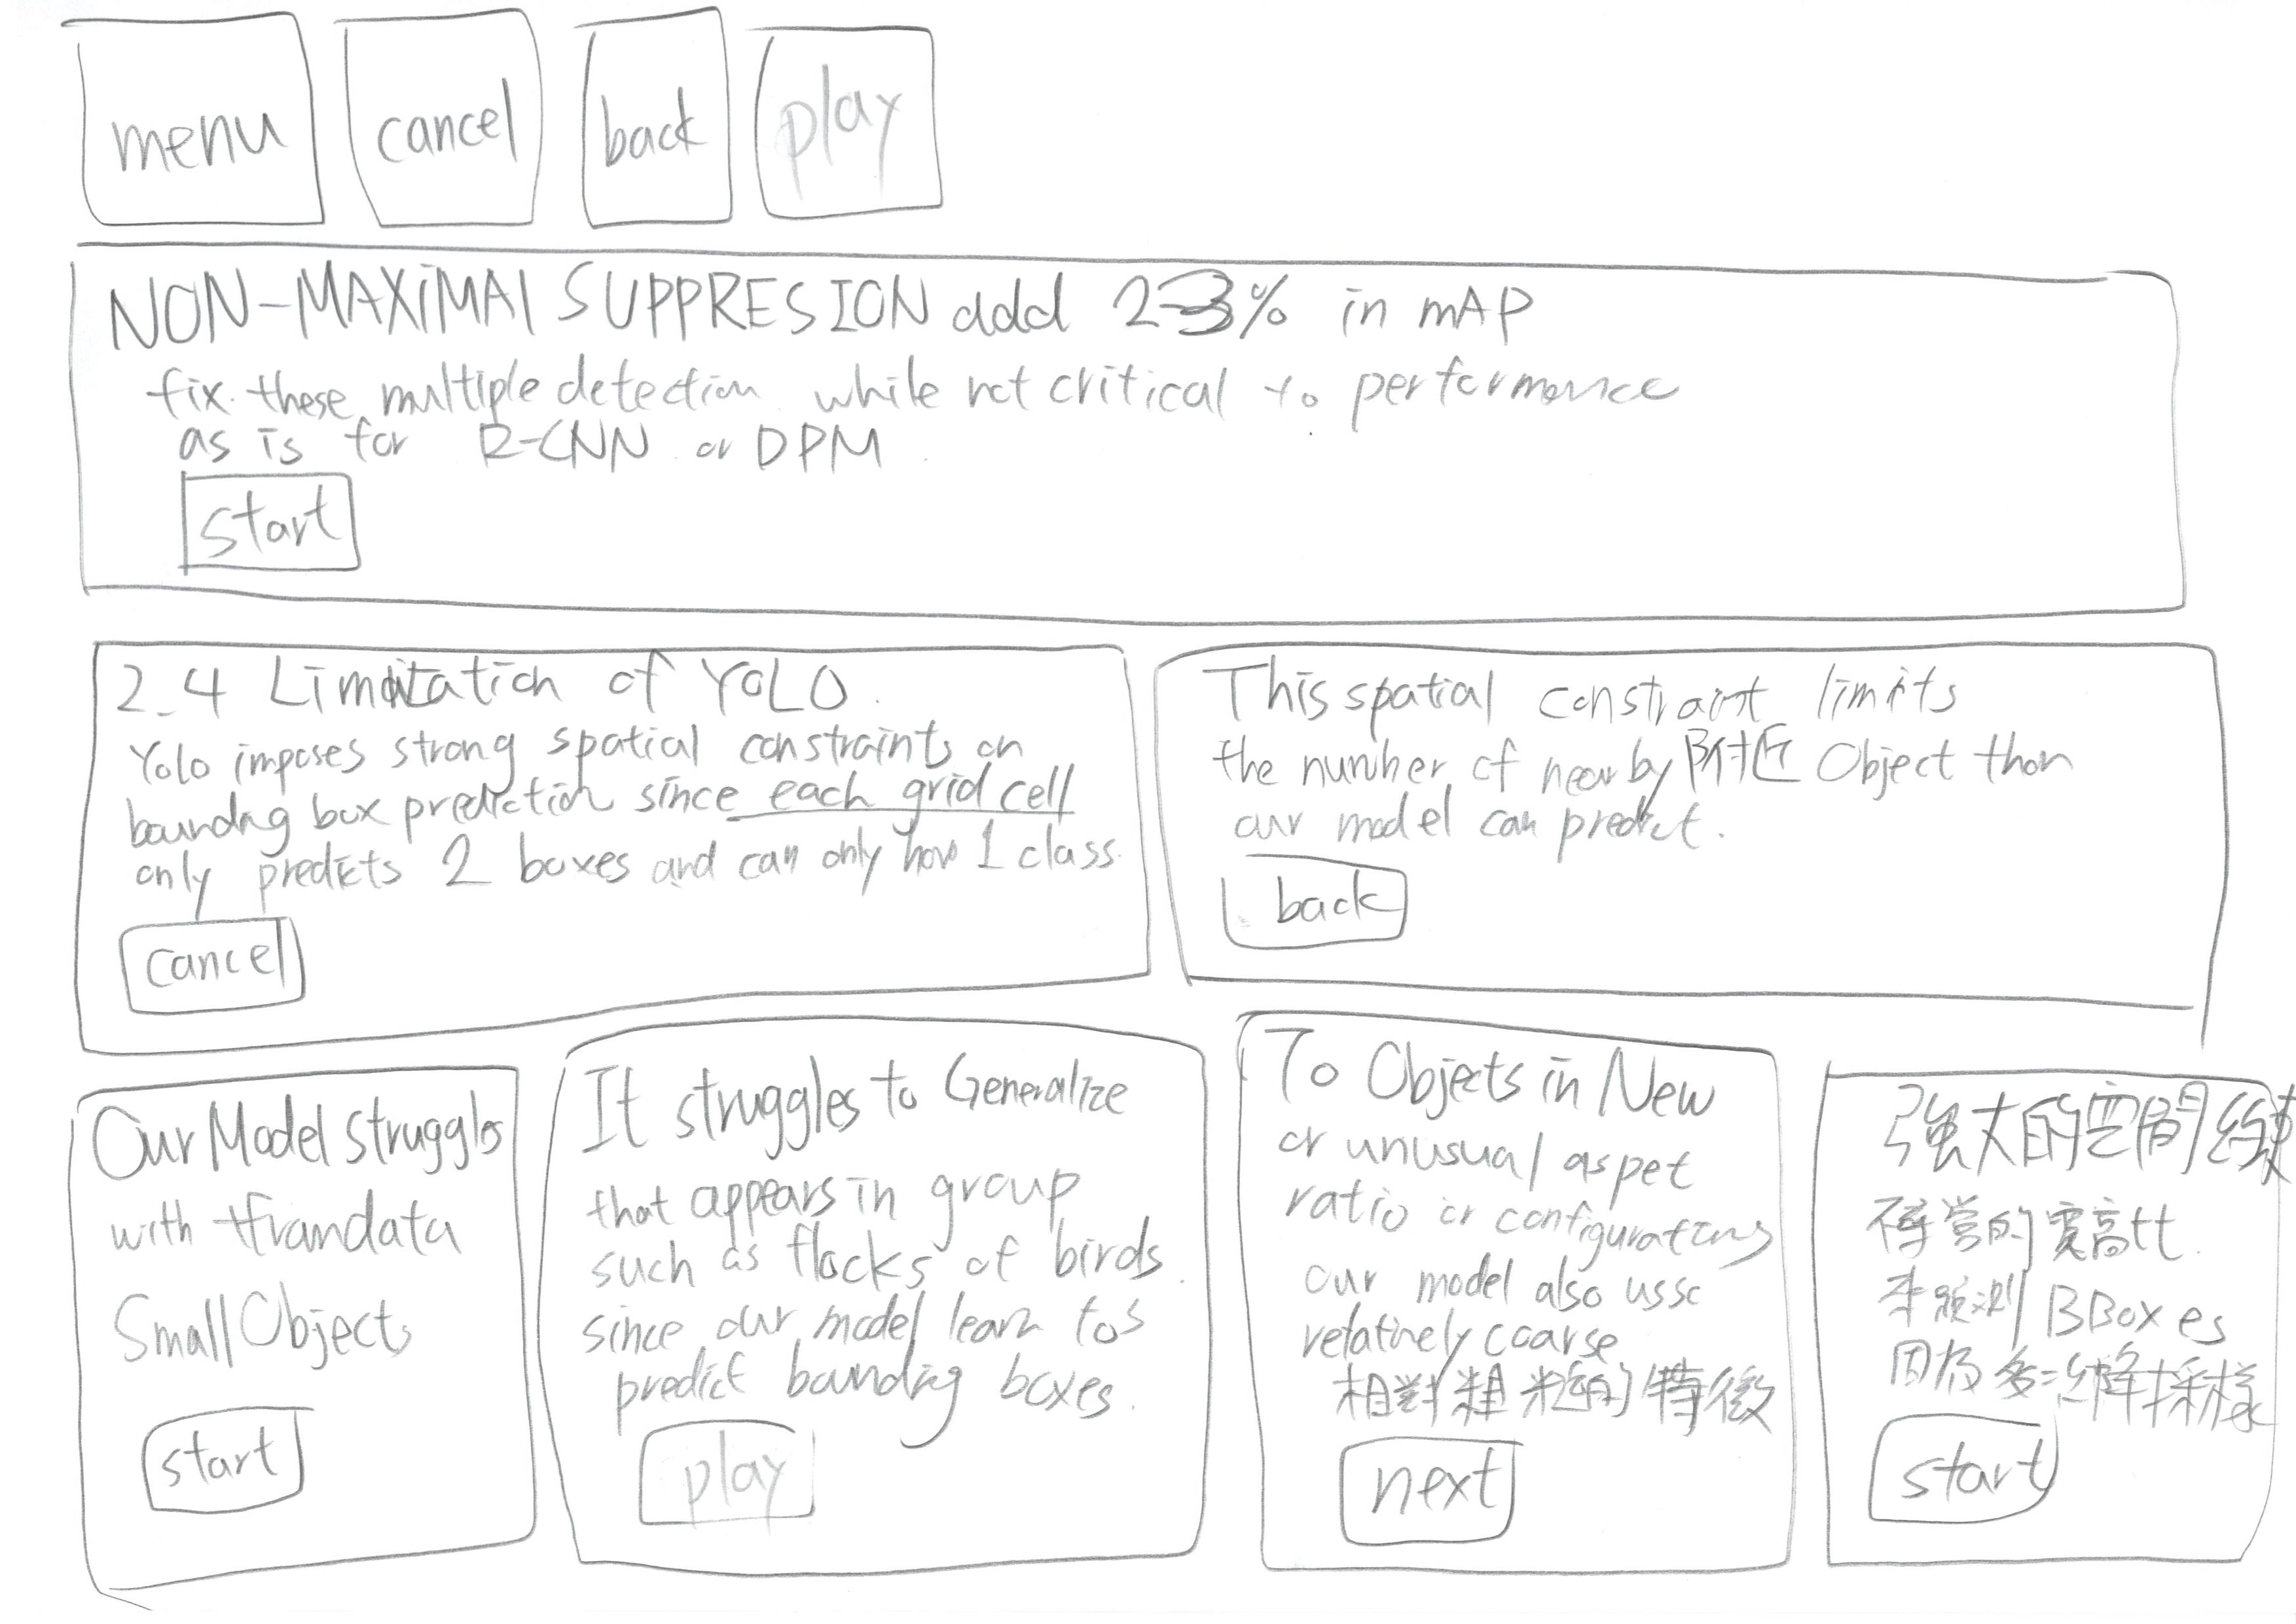back: (552, 0, 752, 239), (1197, 838, 1433, 954)
btn-active: (100, 258, 1582, 344)
cancel: (318, 4, 541, 250), (105, 912, 325, 1028)
double: (1132, 613, 2271, 1016), (56, 615, 1162, 1011)
menu: (32, 2, 339, 246)
next: (1329, 1425, 1547, 1561)
play: (738, 11, 983, 246), (610, 1413, 821, 1547)
quadruple: (531, 1009, 1250, 1587), (1194, 990, 1835, 1612), (16, 1049, 552, 1624), (1797, 1028, 2296, 1617)
row: (2, 991, 2296, 1624), (2, 601, 2296, 1044), (2, 237, 2289, 643), (2, 0, 2296, 246)
single: (54, 218, 2257, 615)
small-title: (102, 638, 932, 743), (1250, 997, 1744, 1137), (1188, 650, 2029, 731), (584, 1028, 1150, 1146), (1867, 1072, 2289, 1167), (97, 1093, 498, 1179)
start: (1851, 1406, 2083, 1550), (114, 1392, 334, 1527), (146, 464, 376, 578)
text: (125, 352, 1672, 468), (109, 731, 1115, 886), (1261, 1127, 1767, 1427), (578, 1169, 1155, 1429), (1206, 721, 2078, 826), (1860, 1195, 2271, 1406), (97, 1188, 492, 1376)
